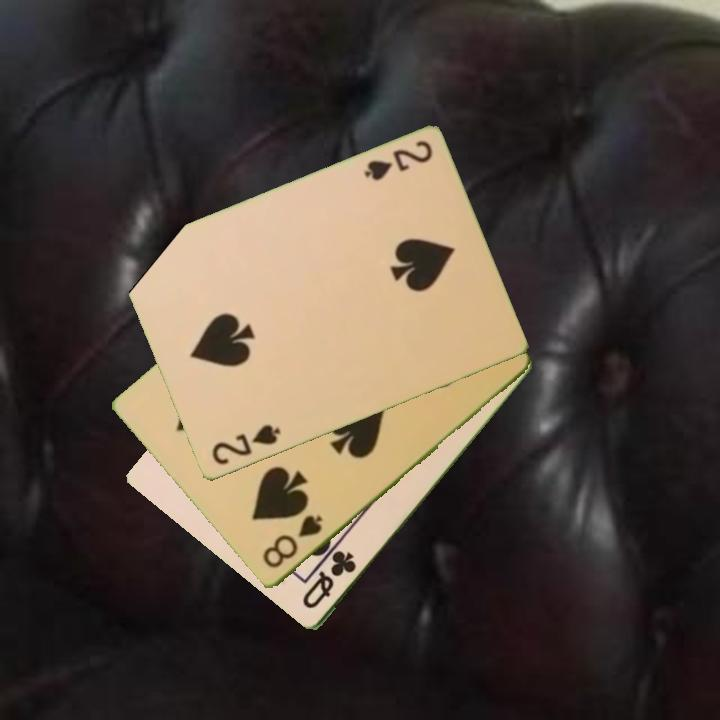2s: (208, 421, 283, 469), (360, 137, 435, 185)
8s: (259, 512, 326, 572)
Qc: (299, 547, 360, 613)
